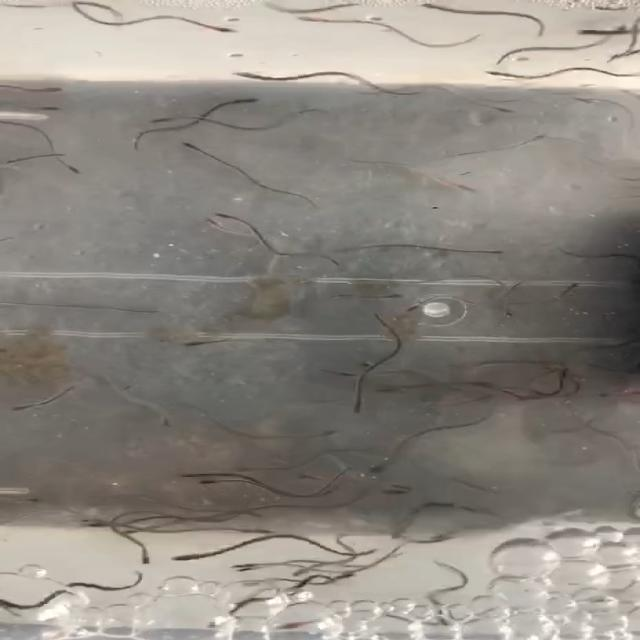active_glass_eel: (488, 298, 530, 322), (317, 361, 362, 383), (21, 98, 72, 116), (133, 299, 166, 324), (226, 62, 266, 82), (367, 378, 405, 399), (28, 79, 76, 95), (49, 162, 97, 177), (501, 272, 532, 295), (206, 208, 250, 224), (527, 128, 562, 148), (180, 214, 231, 227), (177, 334, 215, 351), (208, 22, 246, 39), (229, 463, 267, 480), (142, 109, 185, 124), (146, 412, 179, 431), (310, 423, 343, 442), (323, 254, 356, 272), (197, 477, 228, 496), (478, 63, 514, 79), (492, 100, 524, 118), (407, 1, 450, 14), (169, 549, 208, 563), (165, 466, 207, 479), (554, 276, 580, 297), (405, 296, 435, 314), (470, 245, 511, 258), (291, 14, 328, 27), (224, 95, 264, 107), (362, 463, 398, 476), (338, 400, 368, 415), (9, 400, 32, 419), (455, 180, 478, 199), (377, 480, 408, 494), (177, 140, 208, 154), (580, 25, 607, 41), (382, 288, 410, 303), (229, 563, 257, 576), (128, 551, 152, 565), (298, 470, 318, 479)
